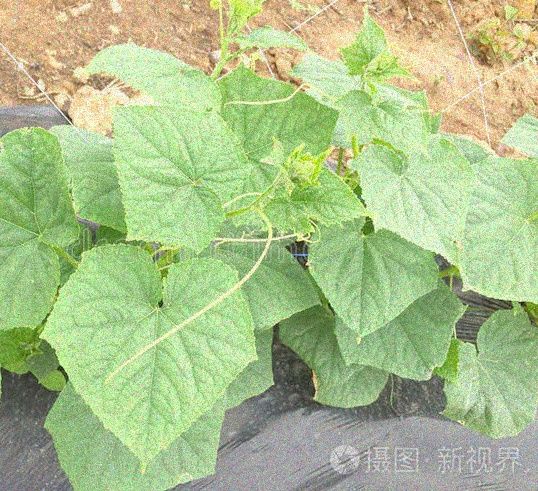cucumber_plant: (126, 55, 445, 233), (50, 232, 260, 491)
